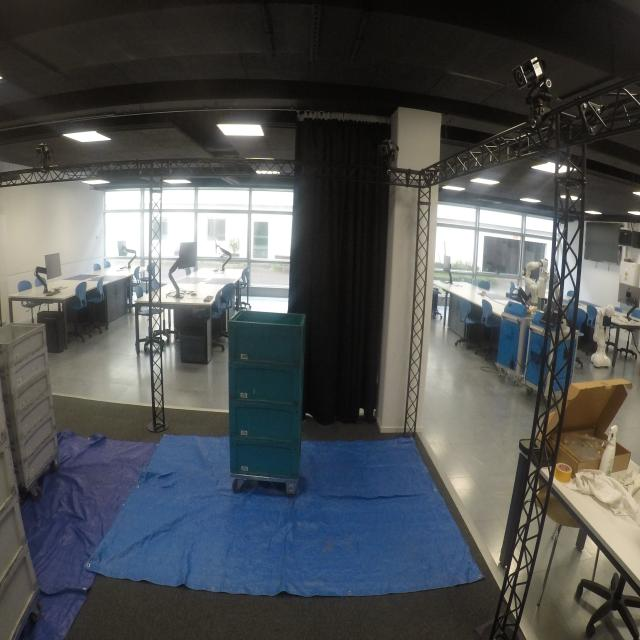BoxB4: (230, 307, 305, 370), (226, 397, 301, 448), (228, 363, 308, 407), (226, 437, 302, 480)
